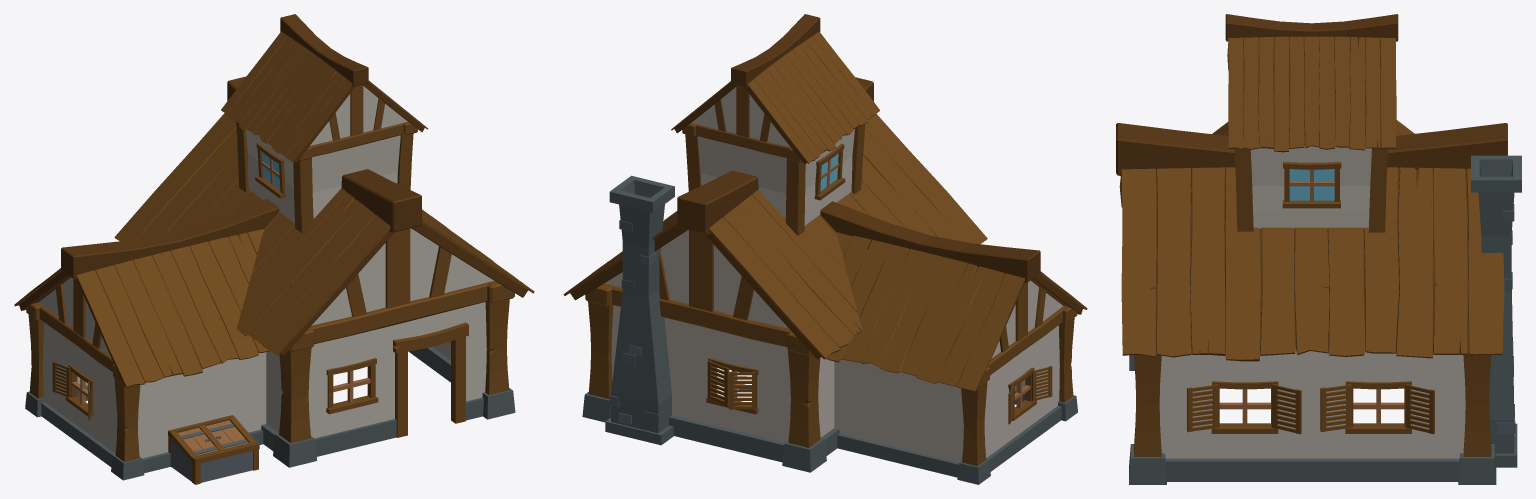
The model's file is House_06.glb.
3 views of the same model, side by side, from view 1: azimuth 30°, elevation 25°; view 2: azimuth 150°, elevation 25°; view 3: azimuth 270°, elevation 25° (orthographic). The views are drawn at different scales.
Visible parts, largest first — view 1: House_06; view 2: House_06; view 3: House_06.
Part boxes in pixels (x1,y1,x2,y2): House_06: (14,14,534,484); House_06: (563,14,1087,484); House_06: (1116,14,1521,484).
Bounding box in the file's own units: 9 × 7.53 × 6.88.
Materials: 1 (1 with a texture image).
